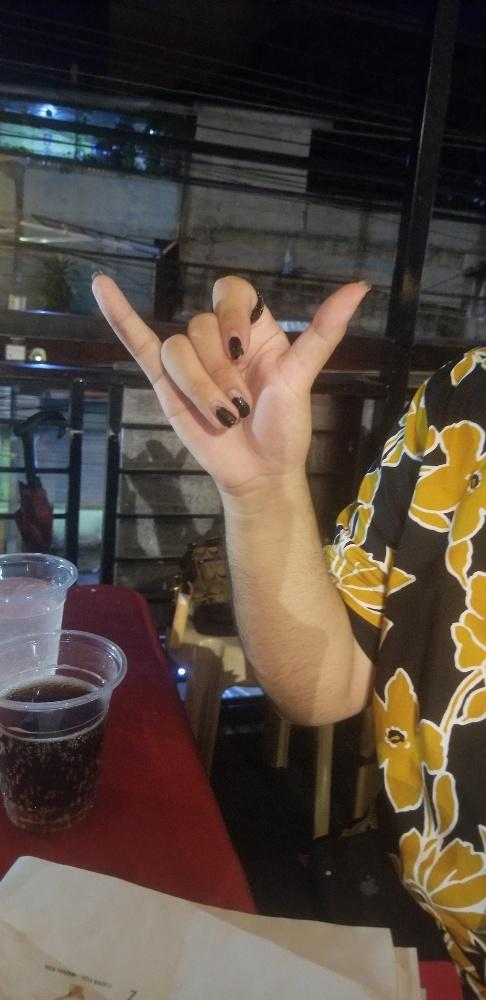y: (89, 275, 366, 466)
